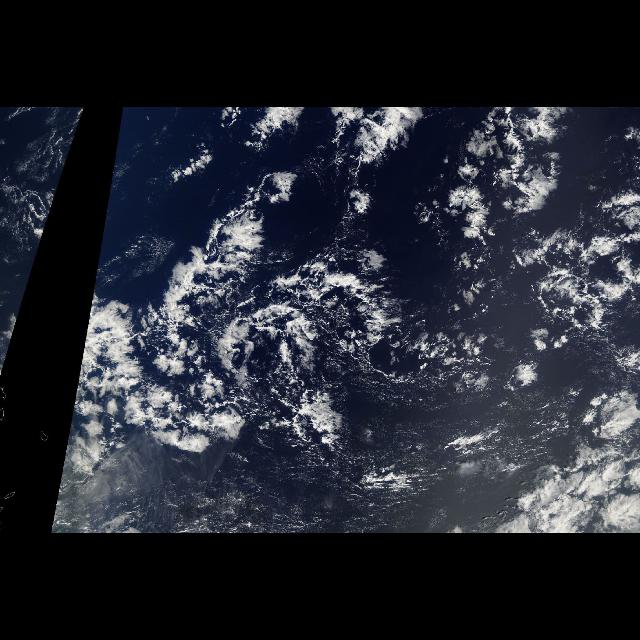Fish: (81, 172, 433, 503)
